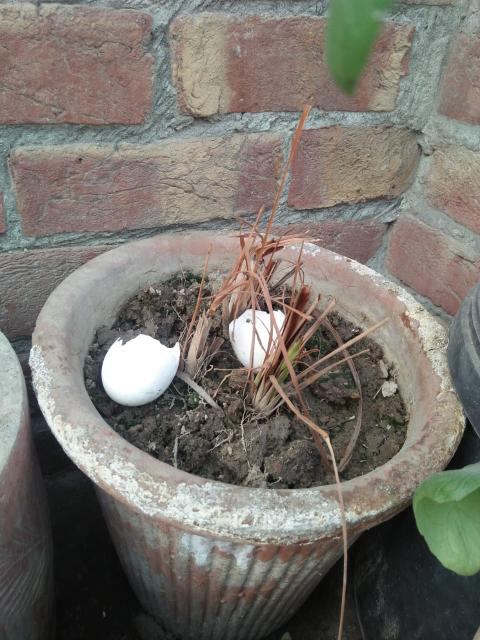Roto: (100, 332, 181, 407), (227, 308, 287, 372)
